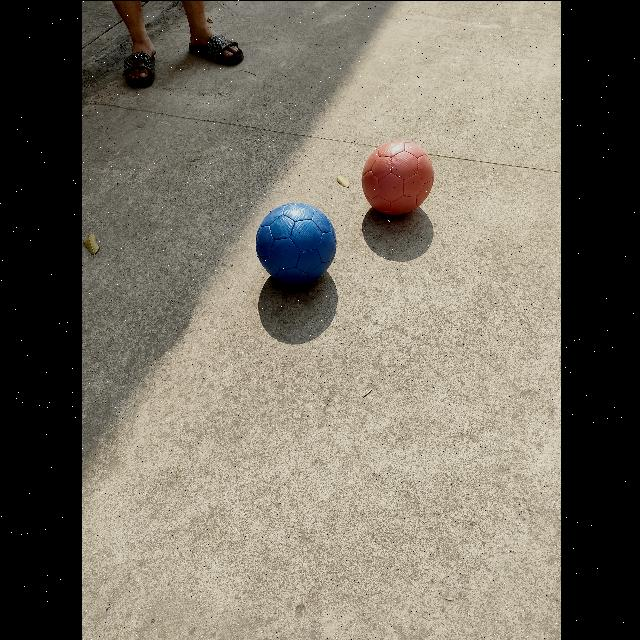B: (254, 201, 336, 287)
R: (360, 140, 435, 217)
